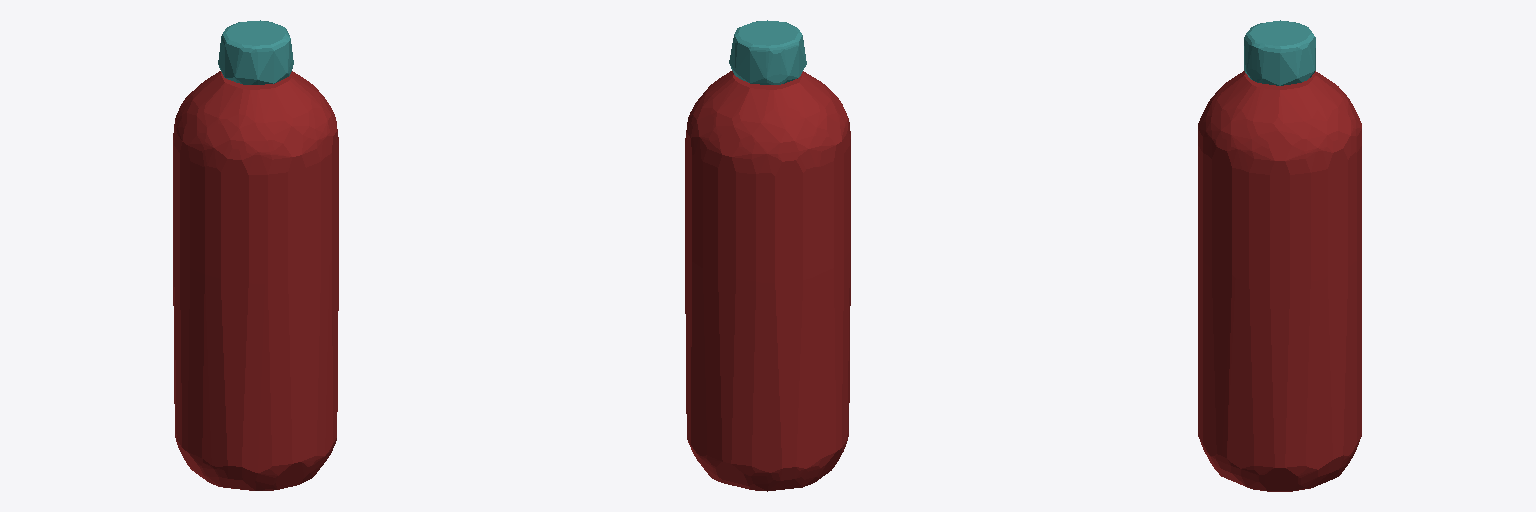
The robot description file, URDF, robot "root":
<robot name="root">
  <link name="bottle_body">
    <inertial>
      <origin xyz="0 0 0" rpy="0 0 0"/>
    </inertial>
    <mass value="1.00E-02"/>
    <visual>
      <origin xyz="0 0 0" rpy="0 0 0"/>
      <geometry>
        <mesh filename="core-bottle-1ffd7113492d375593202bf99dddc268-coacd_convex_piece_1.obj" scale="1.0000E-01 1.0000E-01 1.0000E-01"/>
      </geometry>
      <material name="">
        <color rgba="6.00E-01 2.00E-01 2.00E-01 1"/>
      </material>
    </visual>
    <collision>
      <origin xyz="0 0 0" rpy="0 0 0"/>
      <geometry>
        <mesh filename="core-bottle-1ffd7113492d375593202bf99dddc268-coacd_convex_piece_1.obj" scale="1.0000E-01 1.0000E-01 1.0000E-01"/>
      </geometry>
    </collision>
  </link>
  <link name="bottle_cap">
    <origin xyz="0 0 0.002" rpy="0 0 0"/>
    <mass value="1.00E-02"/>
    <visual>
      <origin xyz="0 0 0.002" rpy="0 0 0"/>
      <geometry>
        <mesh filename="core-bottle-1ffd7113492d375593202bf99dddc268-coacd_convex_piece_0.obj" scale="1.0000E-01 1.0000E-01 1.0000E-01"/>
      </geometry>
      <material name="">
        <color rgba="3.00E-01 6.00E-01 6.00E-01 1"/>
      </material>
    </visual>
    <collision>
      <origin xyz="0 0 0.002" rpy="0 0 0"/>
      <geometry>
        <mesh filename="core-bottle-1ffd7113492d375593202bf99dddc268-coacd_convex_piece_0.obj" scale="1.0000E-01 1.0000E-01 1.0000E-01"/>
      </geometry>
    </collision>
  </link>
  <joint name="bottle_cap_joint" type="revolute">
    <origin xyz="0 0 0" rpy="0 0 0"/>
    <parent link="bottle_body"/>
    <child link="bottle_cap"/>
    <axis xyz="0 0 1"/>
    <limit lower="0.00" upper="6.28"/>
    <dynamics damping="0.05"/>
  </joint>
</robot>

--- What the picture shows (computed from the rendered views, not written in the file) ---
The picture shows the robot from 3 angles, left to right: view 1: azimuth 30°, elevation 25°; view 2: azimuth 150°, elevation 25°; view 3: azimuth 270°, elevation 25°; orthographic projection.
Model root with 2 links and 1 joints (1 revolute), rooted at bottle_body, posed every joint at zero.
Links seen in each view (by area): view 1: bottle_body, bottle_cap; view 2: bottle_body, bottle_cap; view 3: bottle_body, bottle_cap.
Boxes of the visible links, x1=… form: bottle_body: x1=173, y1=71, x2=338, y2=490; bottle_cap: x1=218, y1=20, x2=293, y2=84; bottle_body: x1=685, y1=71, x2=850, y2=491; bottle_cap: x1=729, y1=20, x2=806, y2=84; bottle_body: x1=1198, y1=71, x2=1361, y2=491; bottle_cap: x1=1244, y1=20, x2=1315, y2=85.
Size in the robot's own frame: 0.0659 by 0.0659 by 0.1915 metres.
Meshes: 2 distinct files referenced, 2 mesh visuals loaded (2 OBJ).